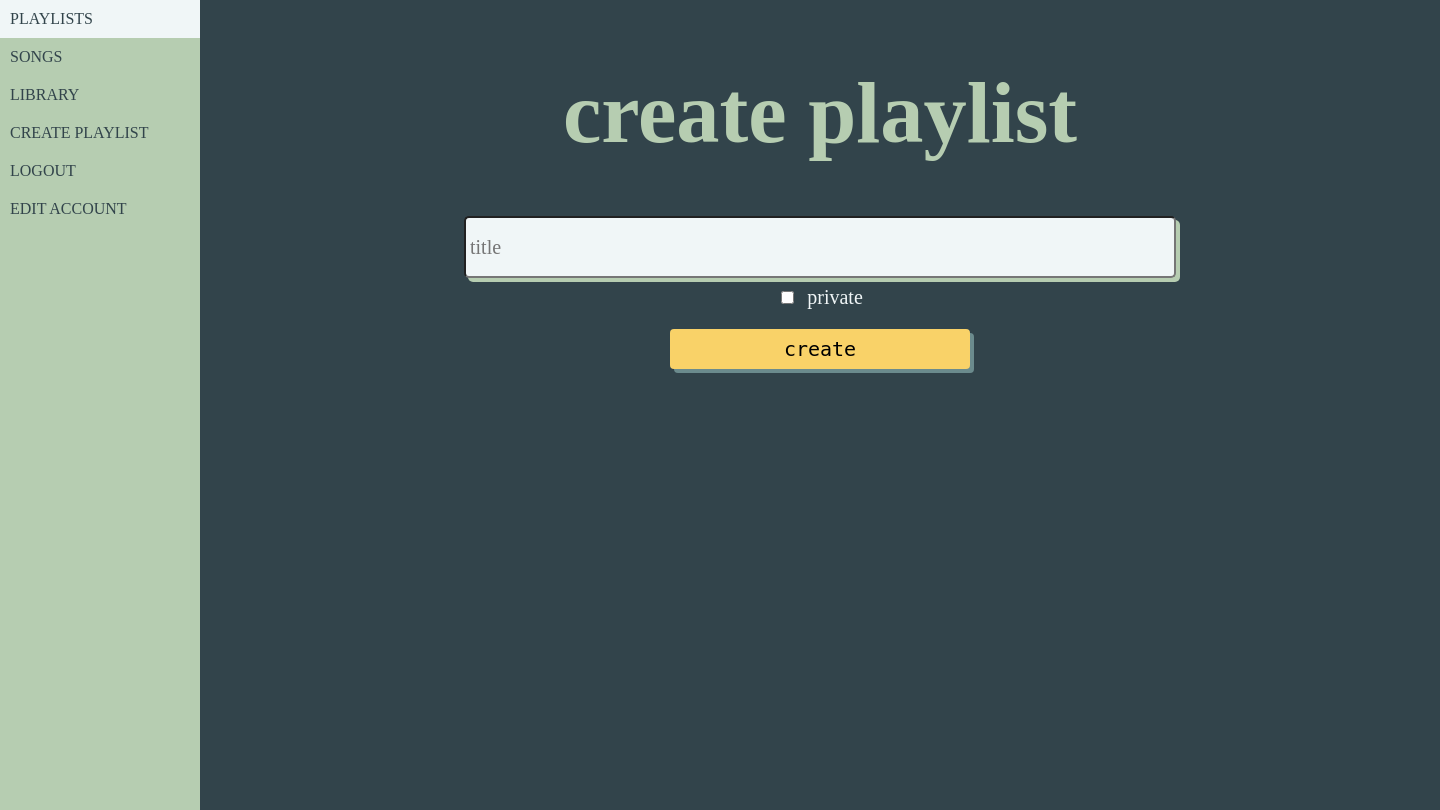
tests create private creation
In the field with placeholder "title": (820,247) [464,216,1176,278], type "query"
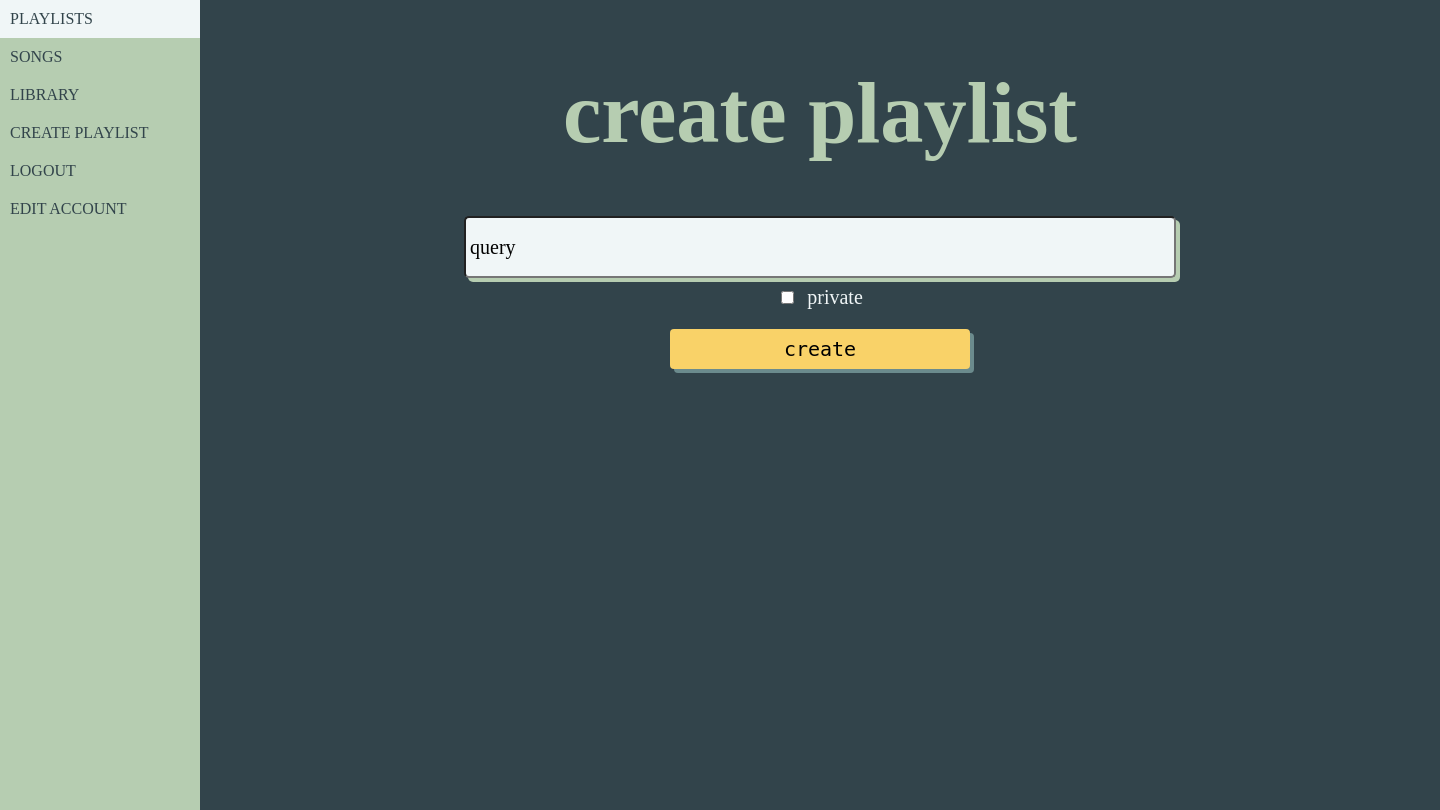
Click the checkbox labelled "private": (788,298) [781,291,794,304]
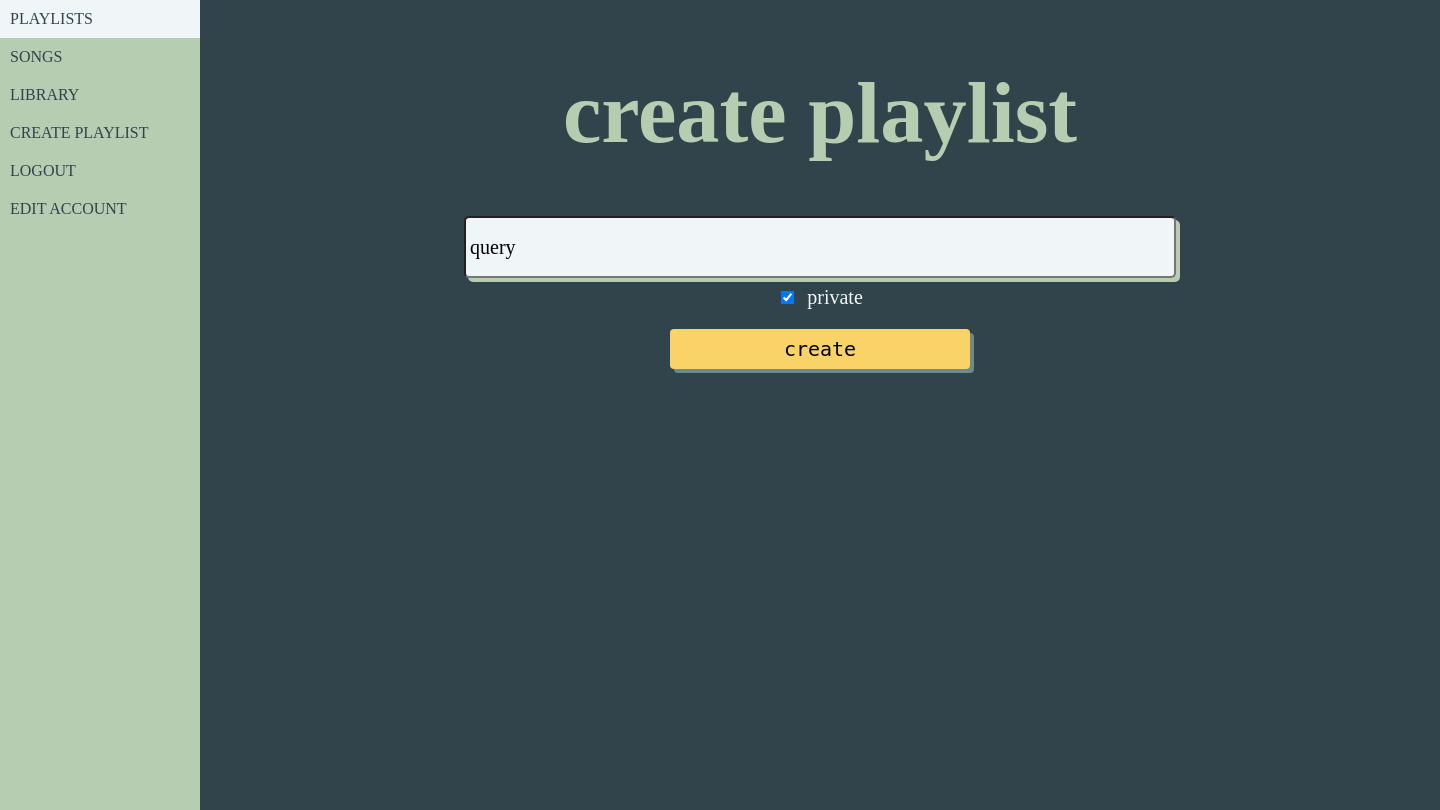
Expected: the checkbox labelled "private" is checked, [781,291,794,304]
Click the button: (820,349) [670,329,970,369]
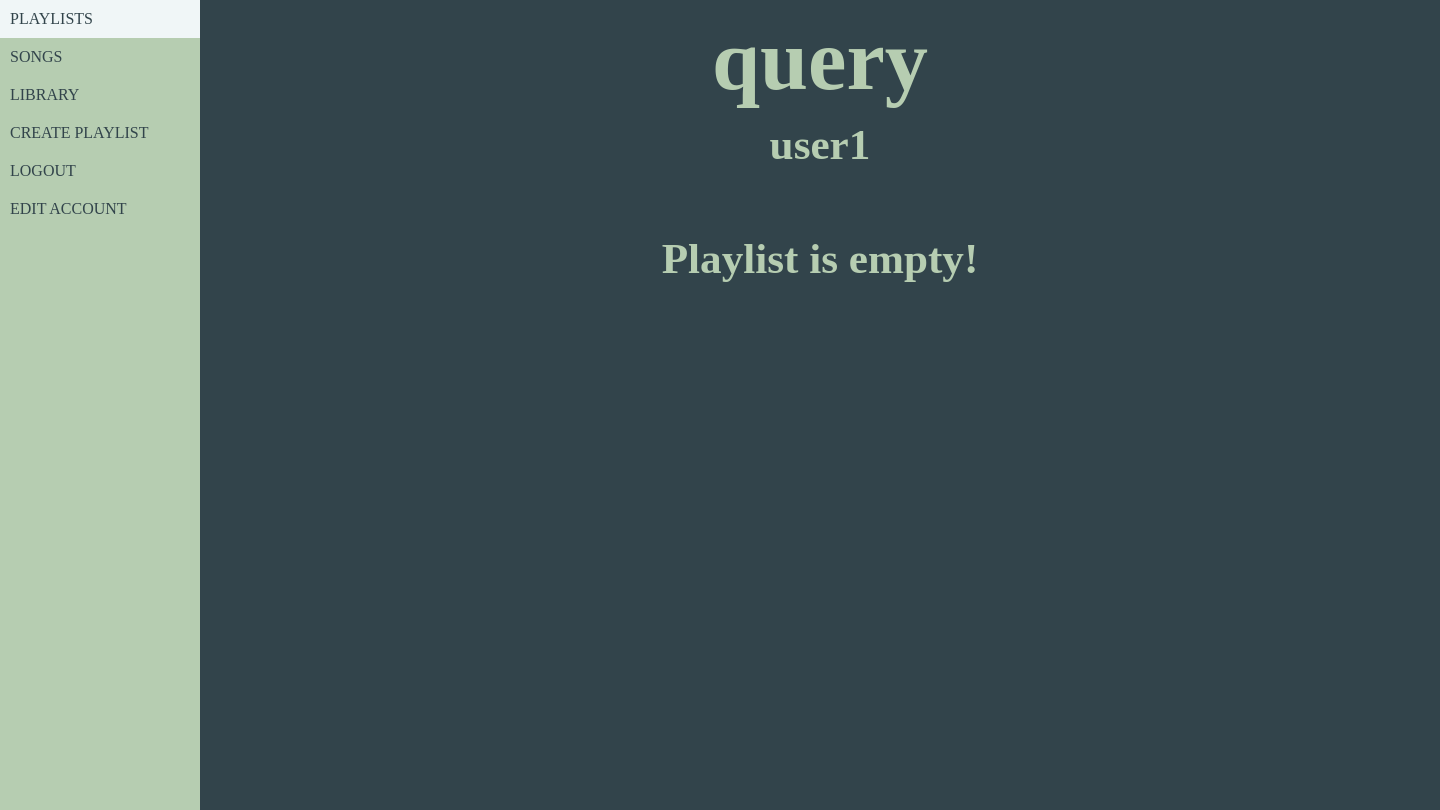
Expected: the heading "user1" is shown, [770,121,870,168]
